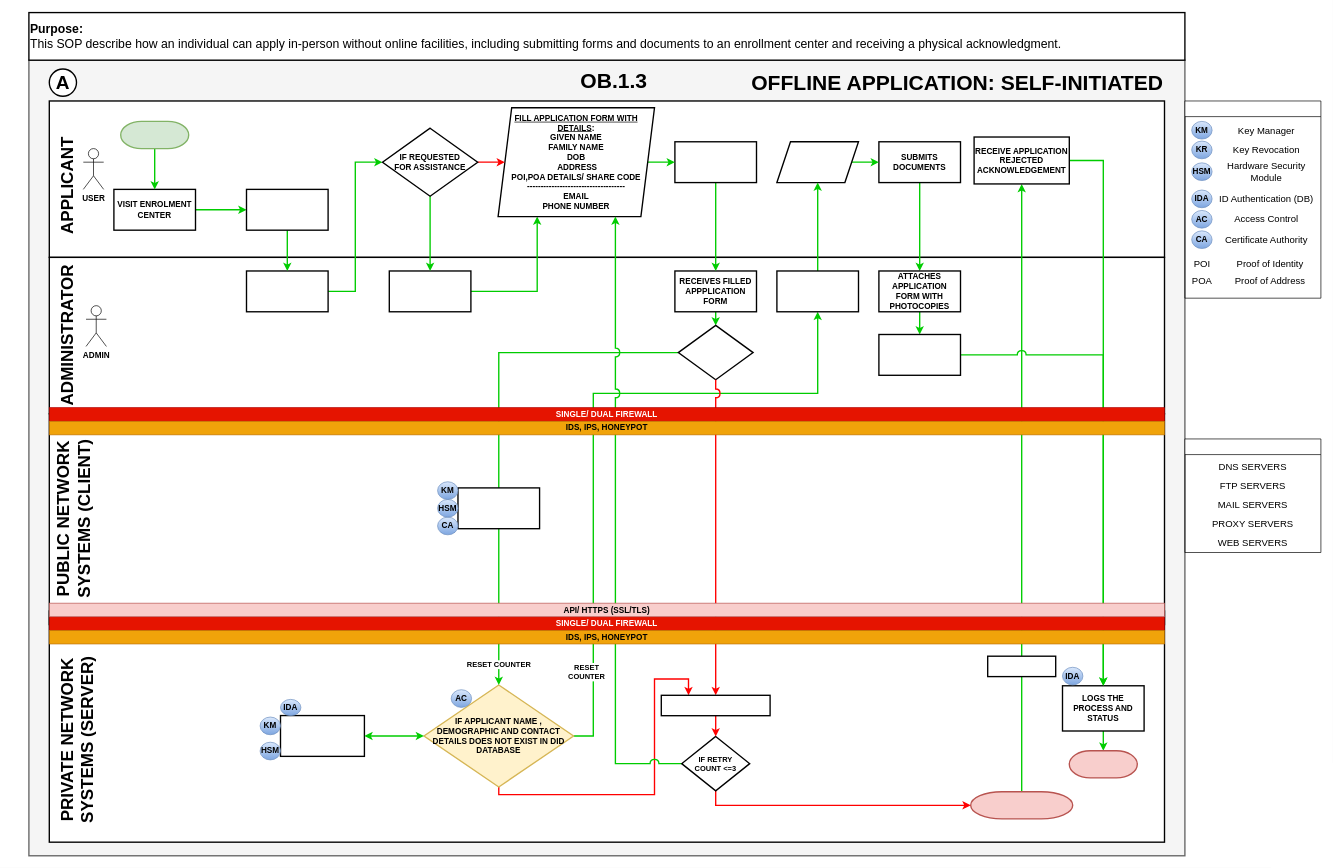
Some shapes in this 1333 by 868 pixel diagram are drawn without their labels. Here are the shapes that lost their labels. From the top down, the box of each, then its label:
(120, 120, 189, 149): START (OFFLINE)
(674, 141, 757, 183): CONFIRMS DETAILS & SIGNS THE DOCUMENT/THUMB IMPRESSION
(776, 141, 859, 183): PROVIDES PHOTOCOPIES OF POI & POA
(245, 188, 328, 231): REQUEST APPLICATION FORM FOR SELF
(1184, 100, 1321, 298): LEGEND
(245, 270, 328, 312): HANDS OVER PHYSICAL COPY OF NEW APPLICATION FORM
(388, 270, 471, 312): PROVIDES ASSISTANCE TO FILL THE FORM
(776, 270, 859, 312): REQUESTS PHOTOCOPIES OF POI & POA
(677, 324, 753, 380): IF APPLICANTS AGE >16 YEARS
(878, 333, 961, 376): PROCEED TO PRE-REGISTRATION FOR APPOINTMENT A.1.4.2.I
(457, 487, 540, 529): MASK & ENCRYPT APPLICATION DETAILS
(1184, 438, 1321, 552): PUBLIC NETWORK
(987, 655, 1056, 677): NOTIFICATION GENERATOR
(660, 694, 770, 716): EXCEPTION AND ERROR HANDLING (COUNTER)
(279, 715, 365, 757): CHECK FOR MATCHING DETAILS
(1068, 750, 1138, 778): END
(970, 791, 1073, 819): TERMINATE PROCESS: WITH ERROR MESSAGE
